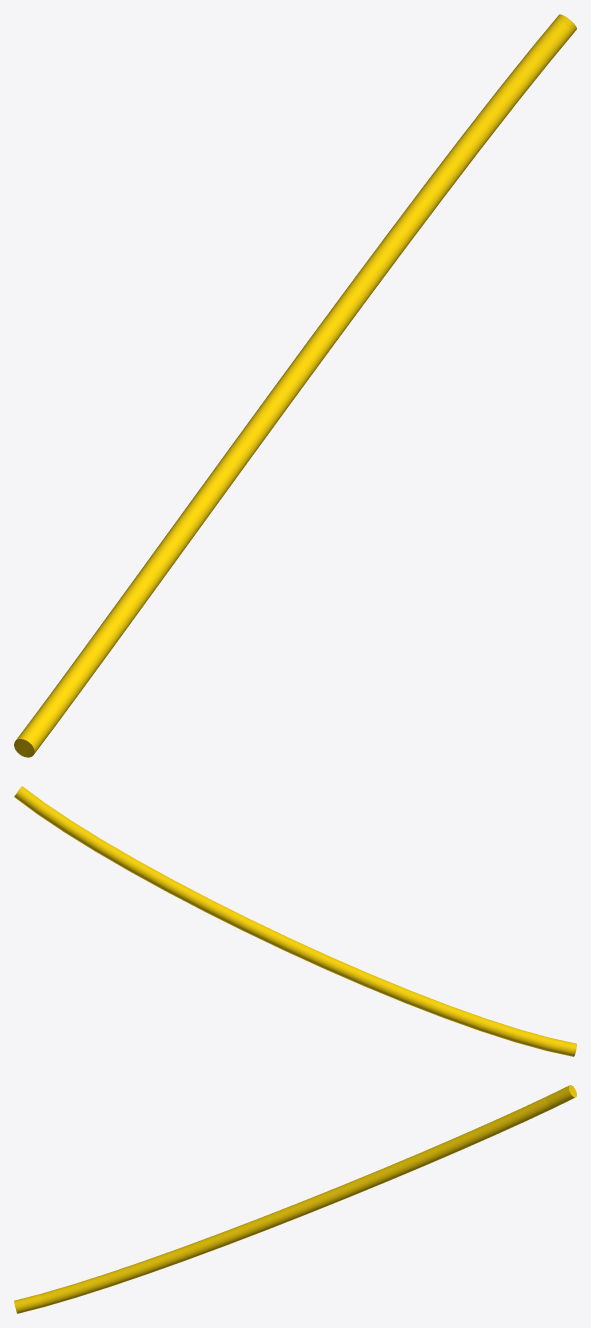
The model's file is Event_421127236_track_28.fbx.
3 views of the same model, one above another, from view 1: azimuth 30°, elevation 25°; view 2: azimuth 150°, elevation 25°; view 3: azimuth 330°, elevation 25° (orthographic). The views are drawn at different scales.
Visible parts, largest first — view 1: Model; view 2: Model; view 3: Model.
Boxes of the visible parts, x1,y1,x2,y2 form: Model: [14, 14, 576, 757]; Model: [14, 786, 576, 1056]; Model: [14, 1085, 576, 1313].
Bounding box in the file's own units: 1.51 × 0.8017 × 0.7229.
